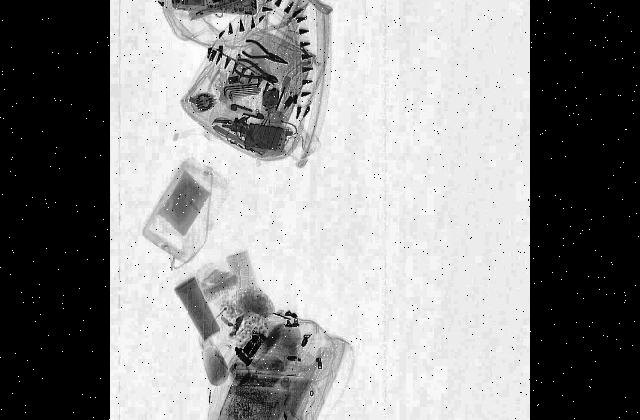Pliers: (242, 36, 290, 74), (235, 54, 279, 92)
